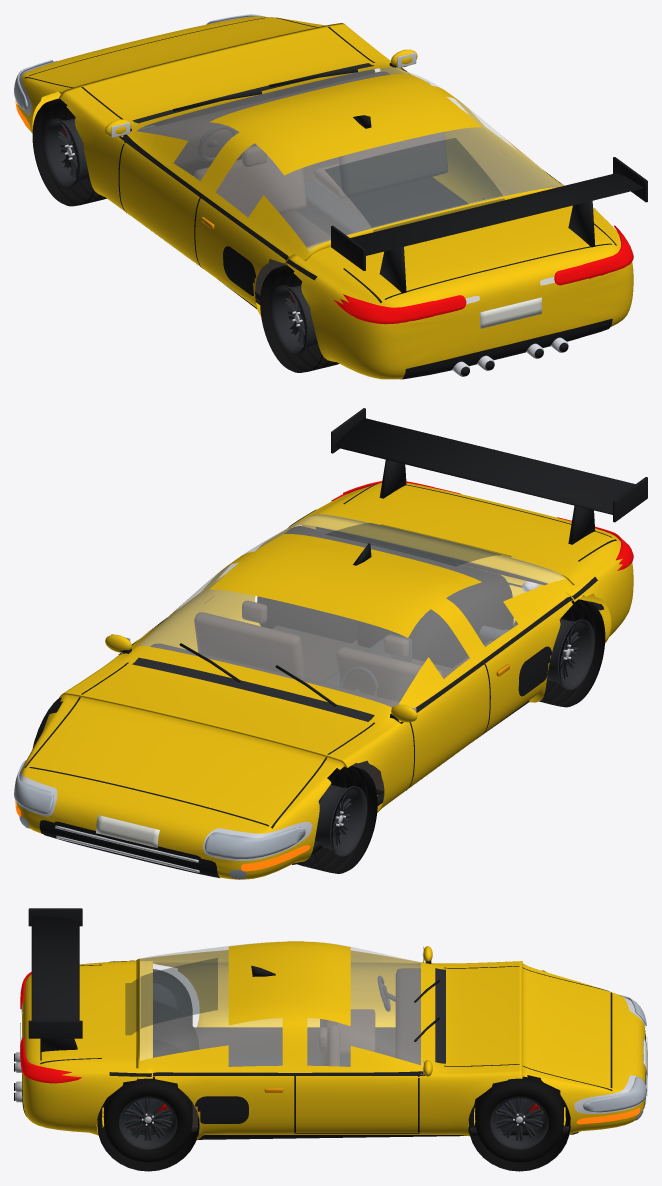
The model's file is SportsCar.fbx.
3 renders of one model, top to bottom at view 1: azimuth 30°, elevation 25°; view 2: azimuth 150°, elevation 25°; view 3: azimuth 270°, elevation 25°, orthographic. The views are drawn at different scales.
Visible parts, largest first — view 1: SportsCar_Body, SportsCar_Trim, SportsCar_Glass, SportsCar_Wheel3, SportsCar_Wheel1, SportsCar_Lights; view 2: SportsCar_Body, SportsCar_Trim, SportsCar_Glass, SportsCar_Wheel1, SportsCar_Wheel3, SportsCar_Lights; view 3: SportsCar_Body, SportsCar_Trim, SportsCar_Glass, SportsCar_Wheel4, SportsCar_Wheel2, SportsCar_Lights, SportsCar_Wheel3.
Part boxes in pixels (box(x1,y1,x2,y2)): SportsCar_Body: box(17, 16, 633, 379); SportsCar_Trim: box(19, 16, 647, 379); SportsCar_Glass: box(137, 67, 561, 251); SportsCar_Wheel3: box(260, 265, 339, 372); SportsCar_Wheel1: box(32, 98, 106, 206); SportsCar_Lights: box(14, 14, 633, 324); SportsCar_Body: box(16, 482, 633, 879); SportsCar_Trim: box(18, 408, 647, 877); SportsCar_Glass: box(137, 514, 565, 707); SportsCar_Wheel1: box(297, 766, 377, 873); SportsCar_Wheel3: box(512, 599, 605, 707); SportsCar_Lights: box(14, 481, 633, 879); SportsCar_Body: box(22, 941, 645, 1140); SportsCar_Trim: box(14, 908, 647, 1171); SportsCar_Glass: box(140, 941, 420, 1066); SportsCar_Wheel4: box(103, 1079, 192, 1162); SportsCar_Wheel2: box(475, 1079, 563, 1162); SportsCar_Lights: box(20, 972, 646, 1124); SportsCar_Wheel3: box(153, 969, 192, 1024).
Bounding box in the file's own units: 7.61 × 4.26 × 16.41.
